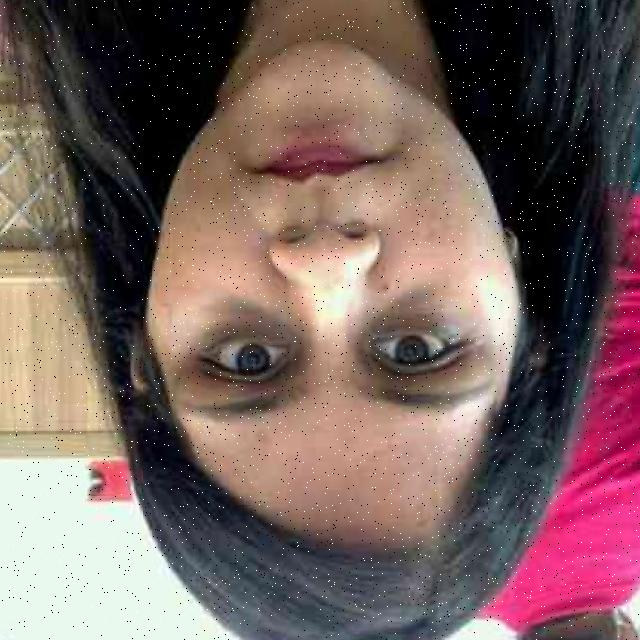puffy_eyes: (206, 296, 307, 368), (361, 301, 470, 337)
